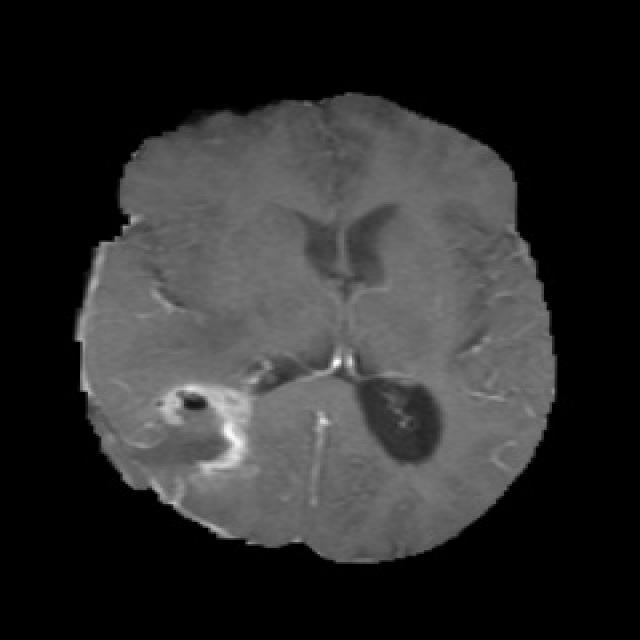negative: (154, 381, 250, 471)
